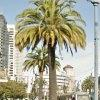Tree: (25, 0, 91, 73)
